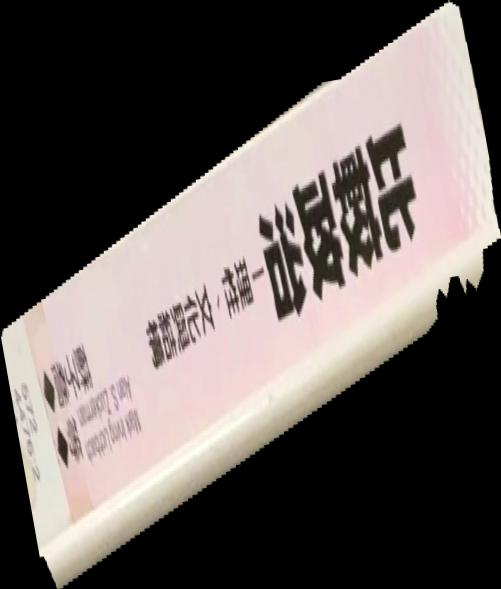flat: (1, 1, 501, 589)
